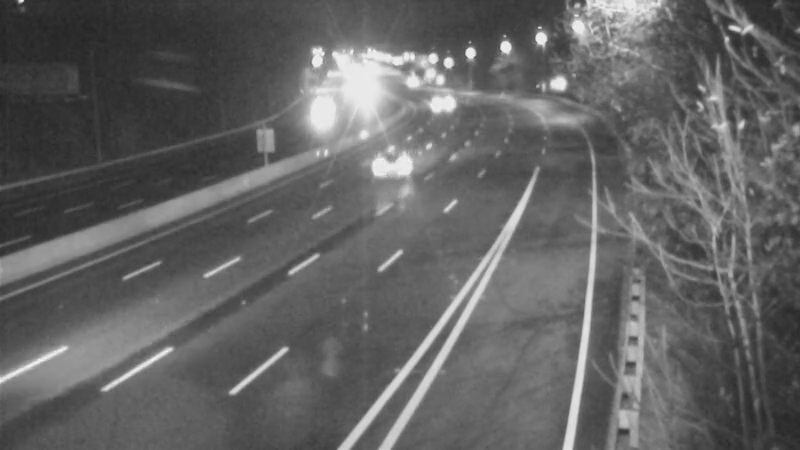vehicle: (351, 122, 431, 202), (384, 61, 434, 111), (411, 74, 461, 124), (296, 88, 346, 138)
